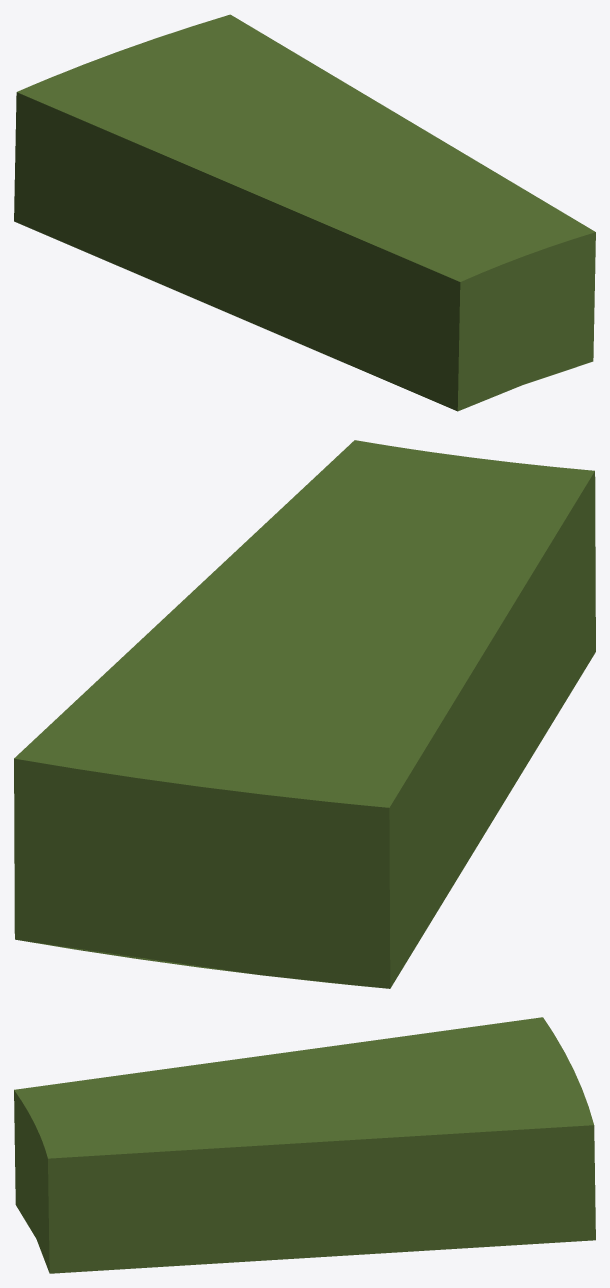
The model's file is sliced-platform-size-5-filled.fbx.
3 renders of one model, top to bottom at view 1: azimuth 30°, elevation 25°; view 2: azimuth 150°, elevation 25°; view 3: azimuth 270°, elevation 25°, orthographic. The views are drawn at different scales.
Visible parts, largest first — view 1: platform-size-5-filled; view 2: platform-size-5-filled; view 3: platform-size-5-filled.
Boxes of the visible parts, x1,y1,x2,y2 form: platform-size-5-filled: [14, 14, 595, 411]; platform-size-5-filled: [14, 440, 595, 988]; platform-size-5-filled: [14, 1017, 595, 1273].
Size of the model in its own units: 245 by 108 by 455.
